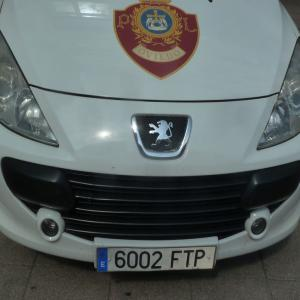Vehicle-registration-plate: (96, 247, 198, 277)
